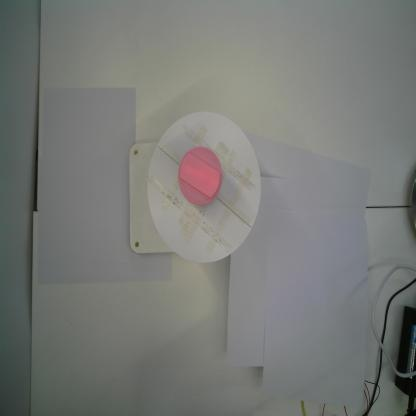Canned Food: (177, 145, 224, 210)
